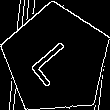L_NE: (28, 31, 85, 88)
